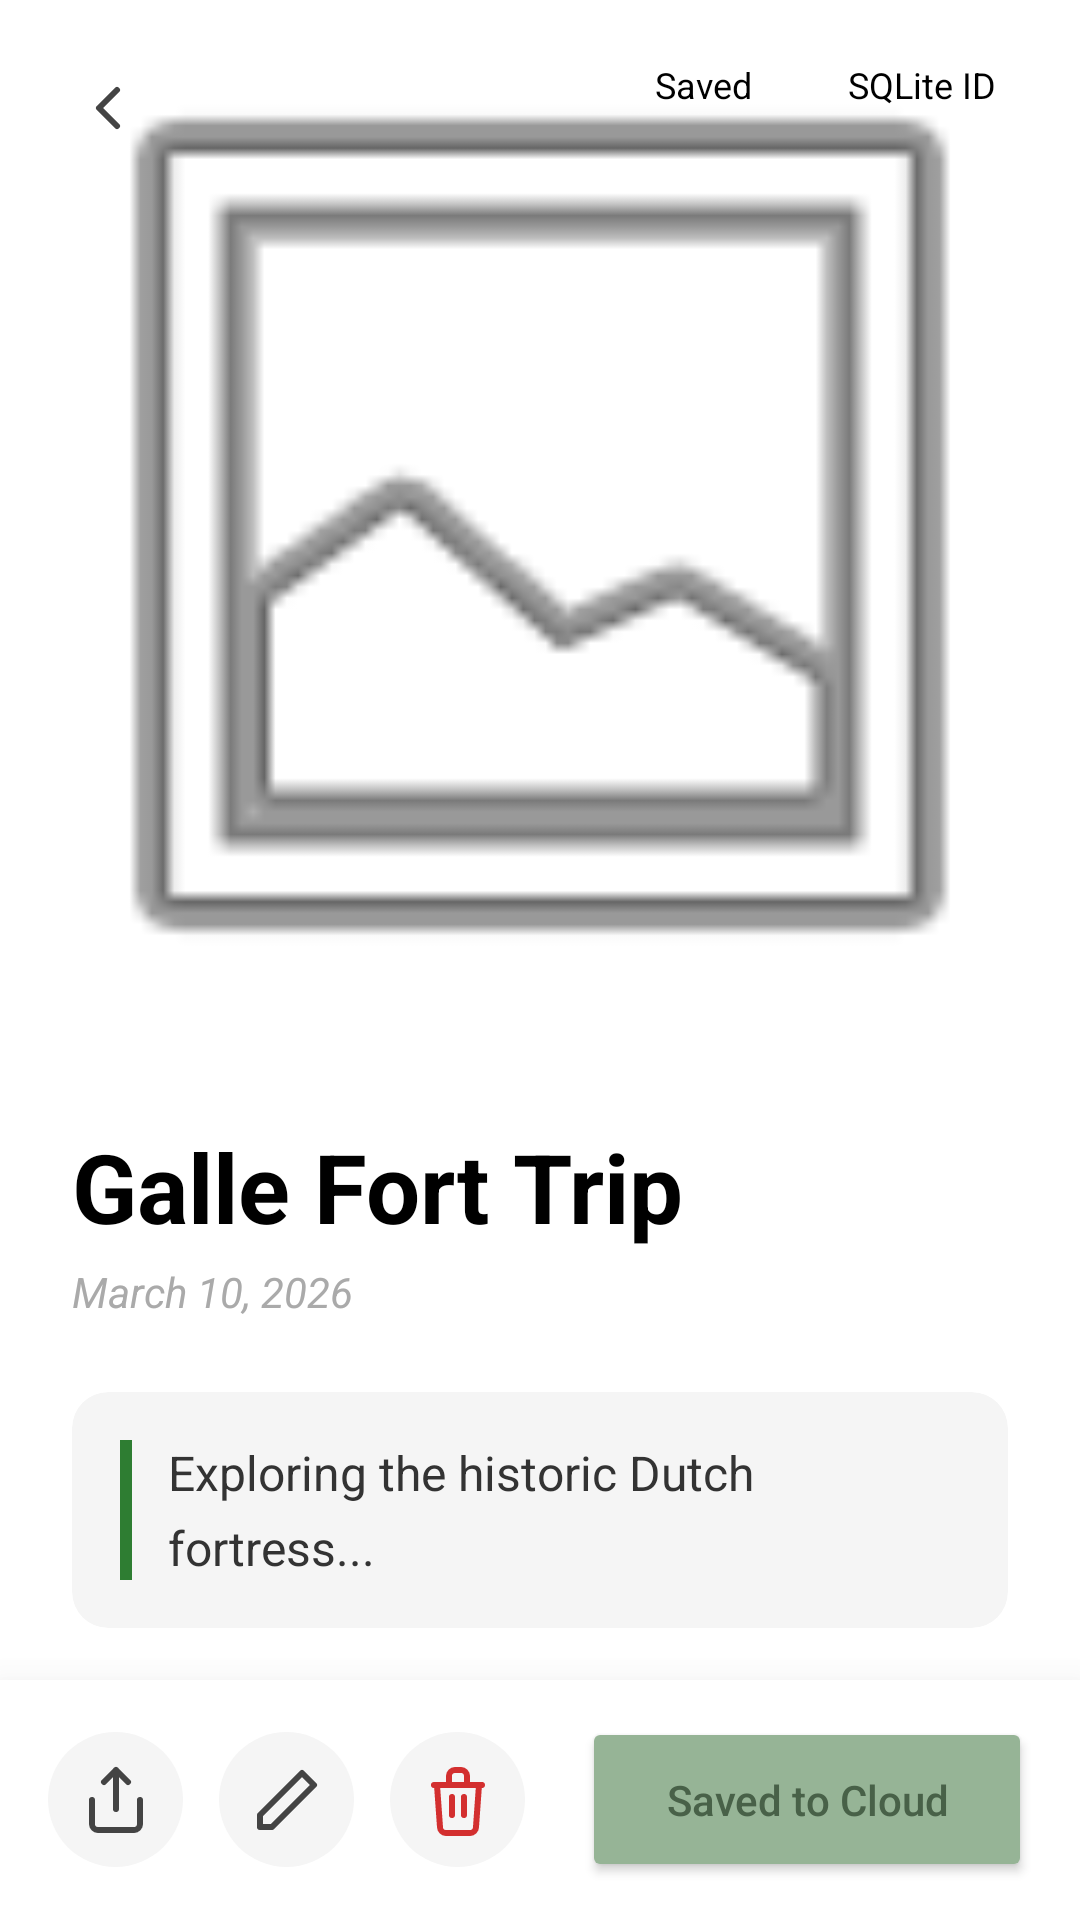

Screen size 1080x1920. Icon name, then its center in pixels as point (x, y):
delete: point (457, 1799)
edit: point (286, 1799)
share: point (115, 1799)
